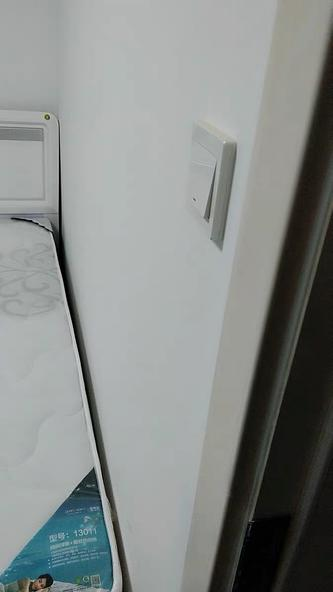switch: (185, 146, 210, 216)
